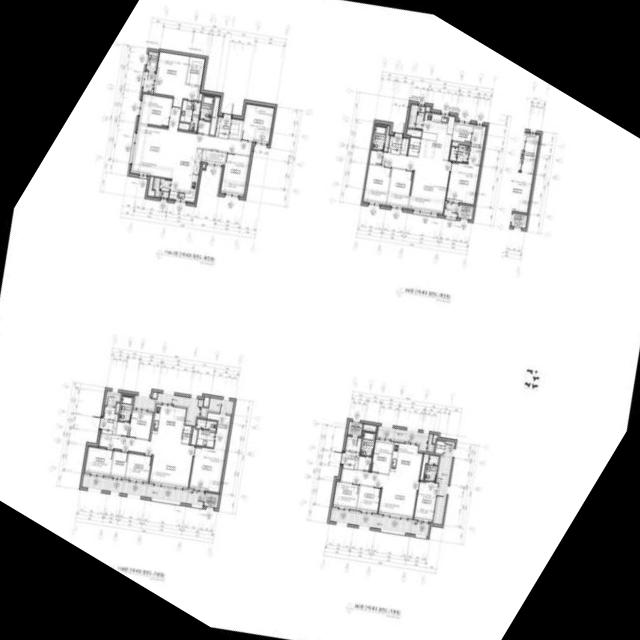background: (0, 0, 640, 640)
space_balconi: (82, 475, 205, 506), (330, 509, 429, 536), (133, 392, 206, 426), (434, 441, 455, 524), (377, 426, 434, 452), (408, 104, 425, 129), (209, 397, 234, 413), (153, 177, 171, 197), (105, 390, 121, 406), (143, 71, 154, 92), (444, 203, 459, 217)
space_bedroom: (153, 51, 200, 107), (189, 446, 226, 492), (241, 103, 275, 143), (221, 153, 250, 196), (363, 164, 391, 204), (139, 93, 172, 126), (387, 168, 413, 208), (414, 480, 438, 522), (84, 446, 113, 476), (125, 453, 151, 482), (128, 409, 153, 439), (333, 481, 359, 509), (356, 485, 381, 513)
space_dressroom: (206, 412, 231, 451), (186, 56, 205, 85), (470, 125, 486, 151)
space_front: (101, 406, 118, 435), (388, 133, 409, 154), (215, 115, 231, 139), (342, 450, 359, 469)
space_kitchen: (169, 145, 202, 202), (418, 112, 455, 160), (151, 404, 186, 444), (389, 442, 422, 480)
space_living_room: (131, 107, 253, 178), (99, 433, 194, 488), (381, 152, 450, 213), (340, 468, 418, 518)
space_other: (446, 150, 481, 204), (371, 439, 393, 474), (110, 451, 128, 478), (452, 122, 473, 142), (209, 97, 220, 135), (201, 149, 226, 165), (229, 118, 243, 139), (345, 436, 361, 452), (408, 137, 420, 156), (420, 454, 429, 479), (369, 150, 383, 165), (358, 456, 371, 471), (116, 421, 129, 436), (197, 120, 210, 134), (182, 425, 191, 443), (435, 440, 445, 454), (191, 426, 198, 444), (384, 126, 389, 151), (148, 176, 154, 196), (407, 129, 421, 137), (363, 424, 376, 431), (452, 141, 470, 146), (203, 396, 209, 406), (432, 434, 438, 443), (115, 403, 120, 413), (152, 392, 157, 398), (199, 93, 202, 101), (426, 106, 430, 111), (202, 164, 205, 168)
space_outdoor_room: (347, 421, 363, 436), (204, 492, 219, 508), (146, 51, 158, 71), (458, 204, 474, 219)
space_toilet: (178, 100, 200, 131), (196, 418, 217, 447), (424, 455, 439, 481), (118, 395, 133, 421), (372, 125, 387, 150), (360, 431, 375, 456), (199, 95, 214, 120), (450, 145, 470, 162)
